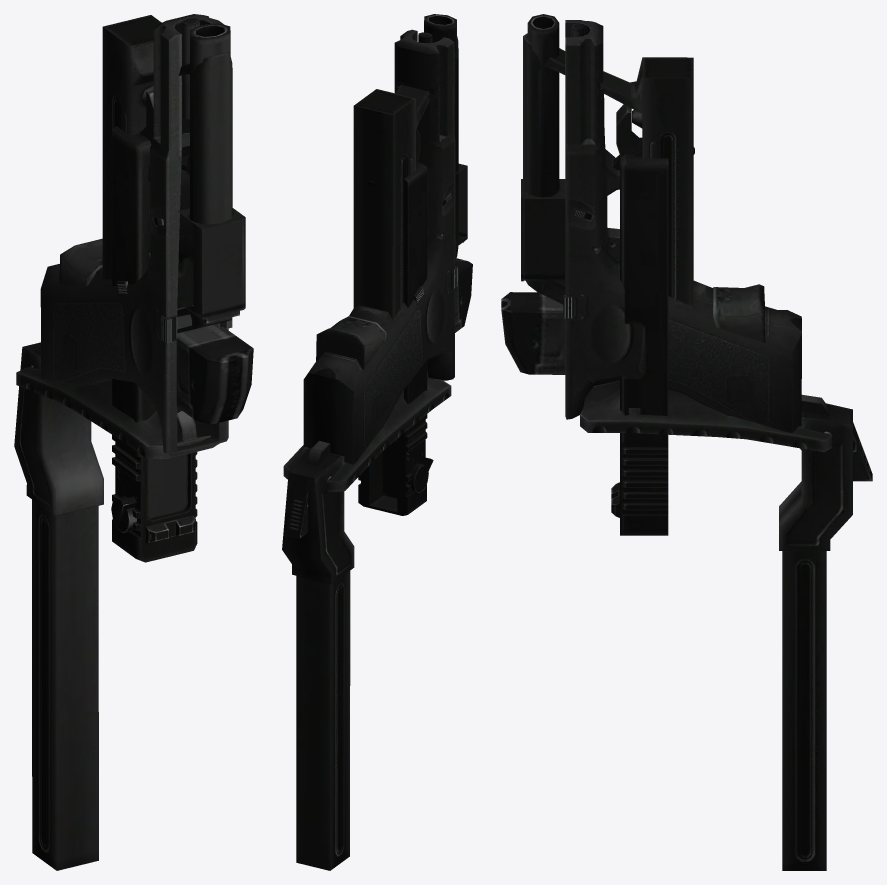
Rendered from Glock18.obj.
3 views of the same model, side by side, from view 1: azimuth 30°, elevation 25°; view 2: azimuth 150°, elevation 25°; view 3: azimuth 270°, elevation 25° (orthographic). The views are drawn at different scales.
Parts seen in each view (by area): view 1: Model_Glock18, Model_Stock_Front, Model_Stock_Back, Model_Handle, Model_Magazine; view 2: Model_Glock18, Model_Stock_Front, Model_Stock_Back, Model_Handle, Model_Magazine; view 3: Model_Glock18, Model_Stock_Front, Model_Stock_Back, Model_Handle, Model_Magazine.
Boxes of the visible parts, x1=… form: Model_Glock18: x1=40, y1=14, x2=245, y2=454; Model_Stock_Front: x1=14, y1=342, x2=103, y2=870; Model_Stock_Back: x1=16, y1=15, x2=232, y2=459; Model_Handle: x1=111, y1=126, x2=197, y2=562; Model_Magazine: x1=59, y1=238, x2=253, y2=424; Model_Glock18: x1=303, y1=14, x2=467, y2=464; Model_Stock_Front: x1=282, y1=447, x2=354, y2=870; Model_Stock_Back: x1=283, y1=36, x2=458, y2=492; Model_Handle: x1=358, y1=162, x2=433, y2=515; Model_Magazine: x1=316, y1=258, x2=472, y2=370; Model_Glock18: x1=521, y1=14, x2=801, y2=432; Model_Stock_Front: x1=779, y1=403, x2=872, y2=870; Model_Stock_Back: x1=523, y1=33, x2=832, y2=452; Model_Handle: x1=611, y1=137, x2=694, y2=535; Model_Magazine: x1=501, y1=284, x2=765, y2=374.
Size of the model in its own units: 0.0389 by 0.4482 by 0.1798.
Materials: 2 (2 with a texture image).
